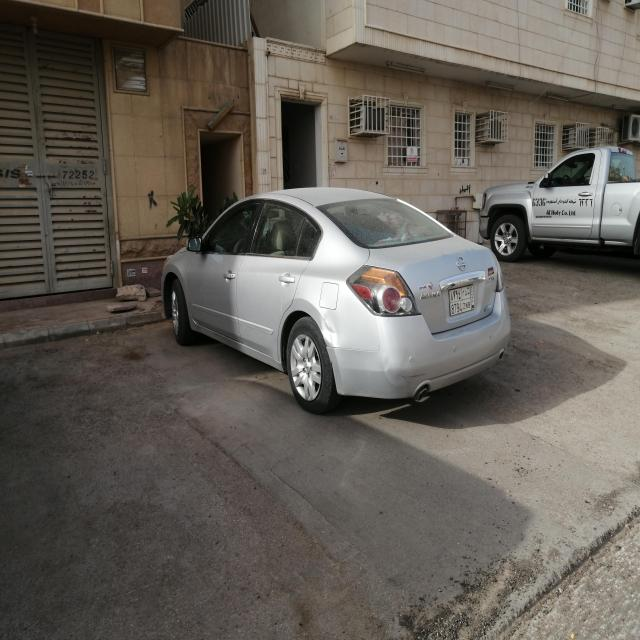license_plate: (448, 284, 475, 316)
